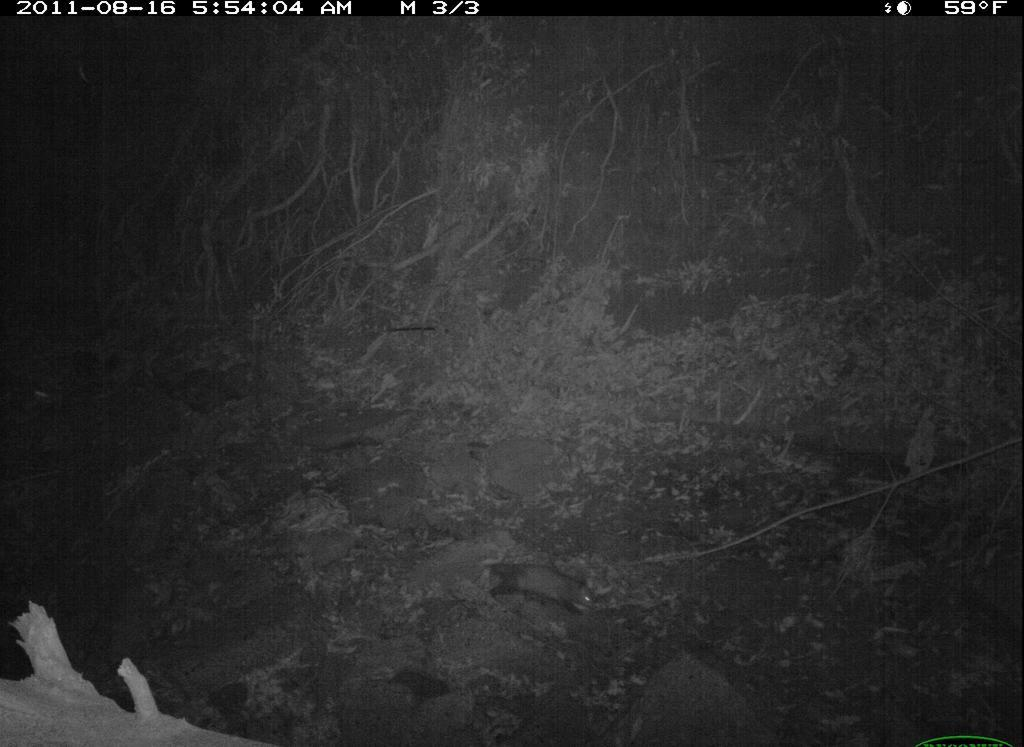opossum: (454, 556, 620, 642)
